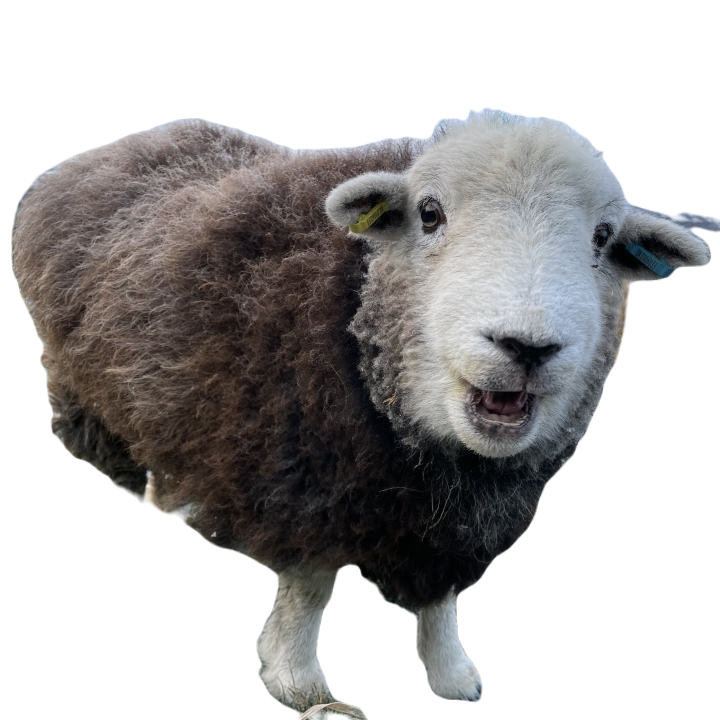Sheep: (9, 101, 712, 714)
